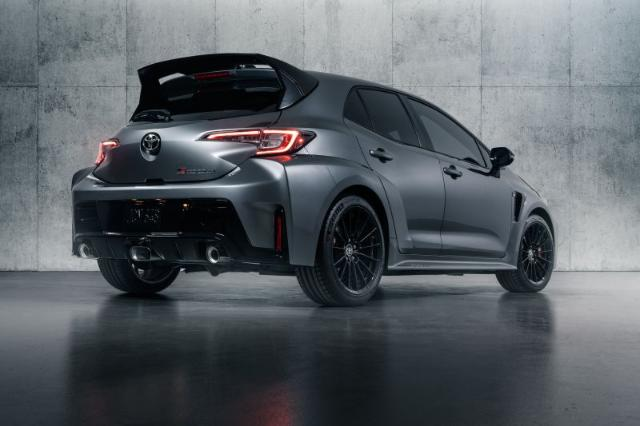toyota: (70, 52, 556, 306)
